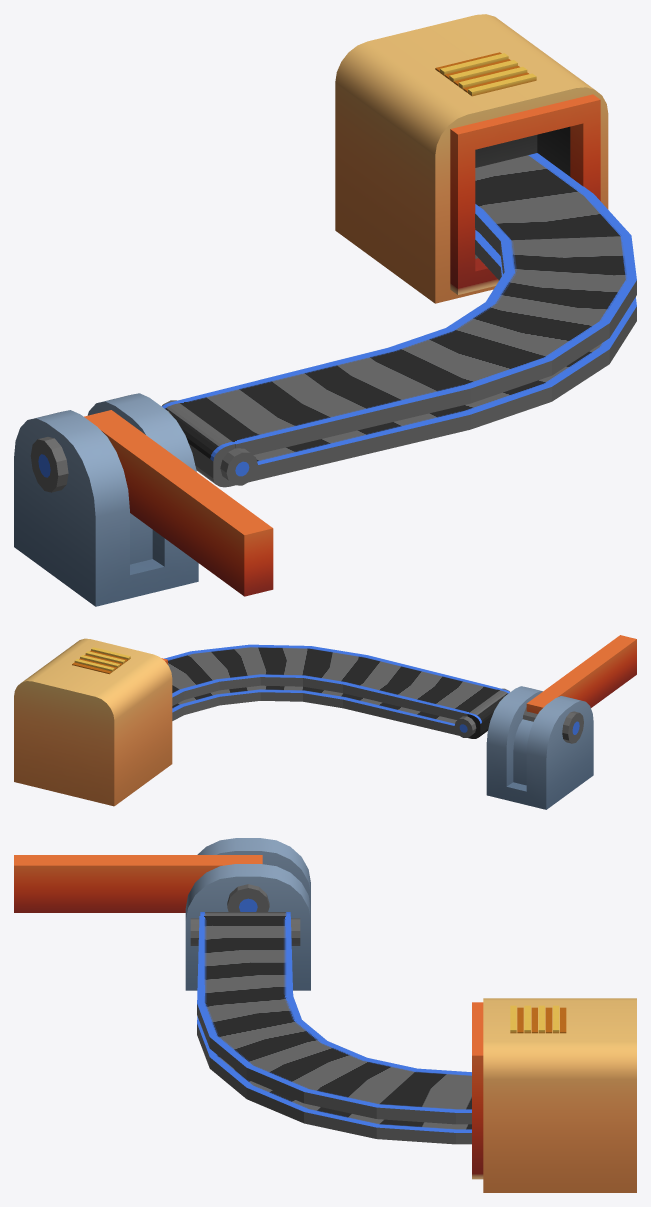
Rendered from belt2.fbx.
The picture shows the model from 3 angles, top to bottom: view 1: azimuth 30°, elevation 25°; view 2: azimuth 150°, elevation 25°; view 3: azimuth 270°, elevation 25°; orthographic projection. The views are drawn at different scales.
Parts seen in each view (by area): view 1: Cube.019, Cube.020, Cube.032, Cube.033, Cube.023, Cube.022, Cube.018, Cube.021, Cylinder.003, Cylinder; view 2: Cube.020, Cube.019, Cube.032, Cube.023, Cube.033, Cube.018, Cube.021, Cylinder.003, Cylinder, Cube.034; view 3: Cube.020, Cube.019, Cube.033, Cube.032, Cube.023, Cube.022, Cylinder.003, Cube.021, Cube.034, Cylinder.
Boxes of the visible parts, <box> form: Cube.019: <box>177,153,636,454</box>; Cube.020: <box>335,14,608,303</box>; Cube.032: <box>14,393,198,606</box>; Cube.033: <box>84,410,273,596</box>; Cube.023: <box>249,229,636,482</box>; Cube.022: <box>450,94,600,294</box>; Cube.018: <box>162,401,235,487</box>; Cube.021: <box>440,53,536,96</box>; Cylinder.003: <box>30,410,172,492</box>; Cylinder: <box>161,400,257,485</box>; Cube.020: <box>14,638,172,806</box>; Cube.019: <box>164,644,501,720</box>; Cube.032: <box>486,686,593,809</box>; Cube.023: <box>172,685,458,735</box>; Cube.033: <box>526,635,636,713</box>; Cube.018: <box>467,689,509,738</box>; Cube.021: <box>74,647,130,671</box>; Cylinder.003: <box>501,696,583,743</box>; Cylinder: <box>454,688,509,737</box>; Cube.034: <box>72,650,127,674</box>; Cube.020: <box>483,998,636,1192</box>; Cube.019: <box>197,916,471,1124</box>; Cube.033: <box>14,855,262,912</box>; Cube.032: <box>185,838,310,990</box>; Cube.023: <box>197,1016,471,1144</box>; Cube.022: <box>472,1002,483,1179</box>; Cylinder.003: <box>227,884,269,911</box>; Cube.021: <box>510,1005,559,1033</box>; Cube.034: <box>517,1007,566,1033</box>; Cylinder: <box>190,918,300,945</box>.
Size of the model in its own units: 193 by 55.6 by 189.
2 materials, 2 textured.
